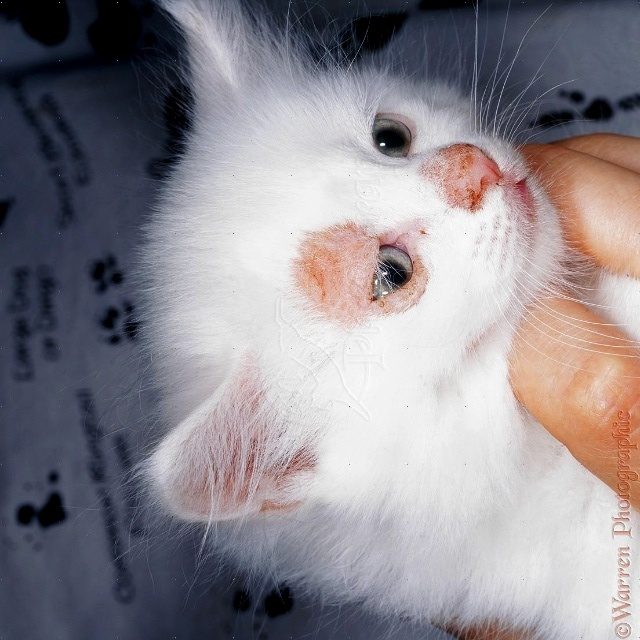ringworm: (300, 226, 370, 308)
